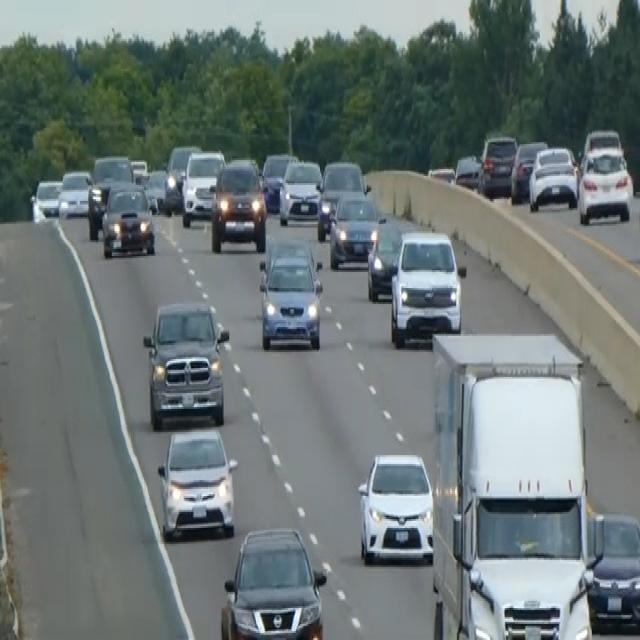car: (219, 523, 327, 638), (156, 423, 238, 541), (356, 450, 434, 565), (389, 228, 464, 346), (258, 238, 324, 350), (586, 509, 639, 631), (210, 154, 267, 252), (366, 214, 424, 302), (578, 144, 633, 224), (100, 180, 155, 258), (328, 188, 381, 268), (316, 158, 366, 240), (86, 153, 134, 238), (528, 142, 579, 212), (181, 147, 225, 225), (278, 156, 322, 226), (163, 142, 201, 212), (478, 132, 517, 196), (509, 139, 547, 201), (260, 151, 297, 212), (57, 167, 92, 219), (581, 125, 623, 164), (30, 176, 62, 222), (144, 167, 170, 213), (454, 151, 481, 190), (427, 163, 455, 185), (130, 156, 148, 185)
jeep: (141, 297, 230, 428)
lorry: (428, 329, 601, 638)
